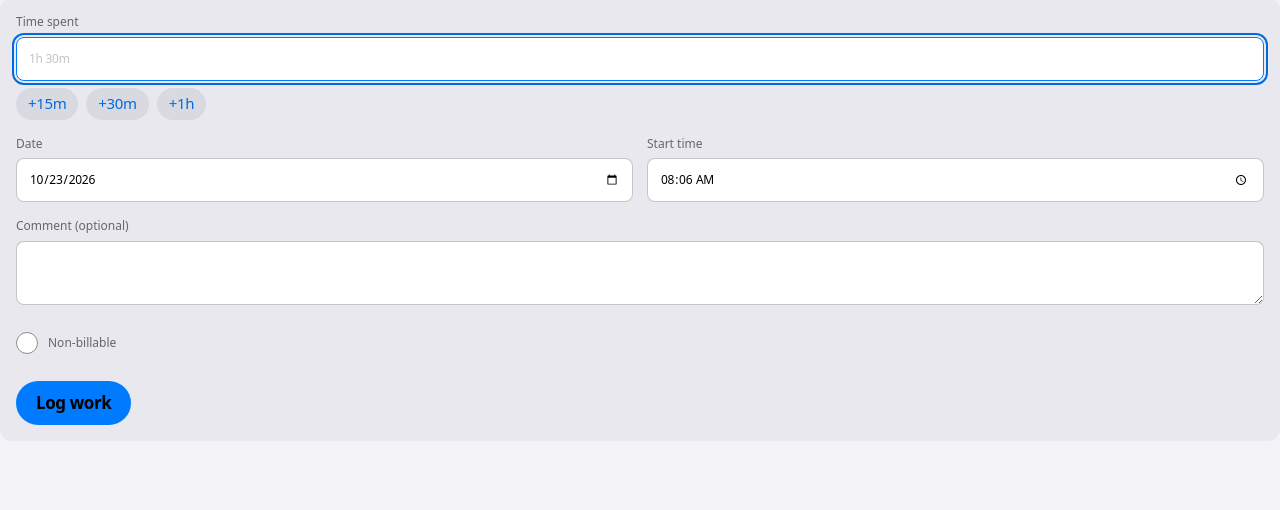
Test case: a duration that makes no sense › refuses to file it and says why
In the field with placeholder "1h 30m": (640, 58) x1=16 y1=36 x2=1264 y2=80, type "banana"
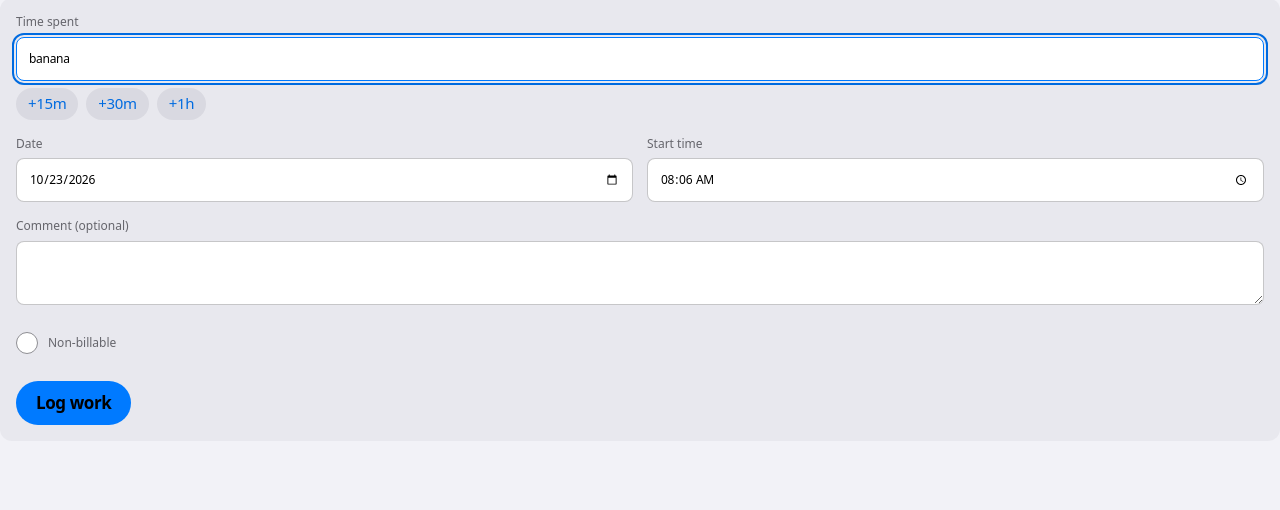
Click the button "Log work": (74, 403) x1=16 y1=381 x2=131 y2=425
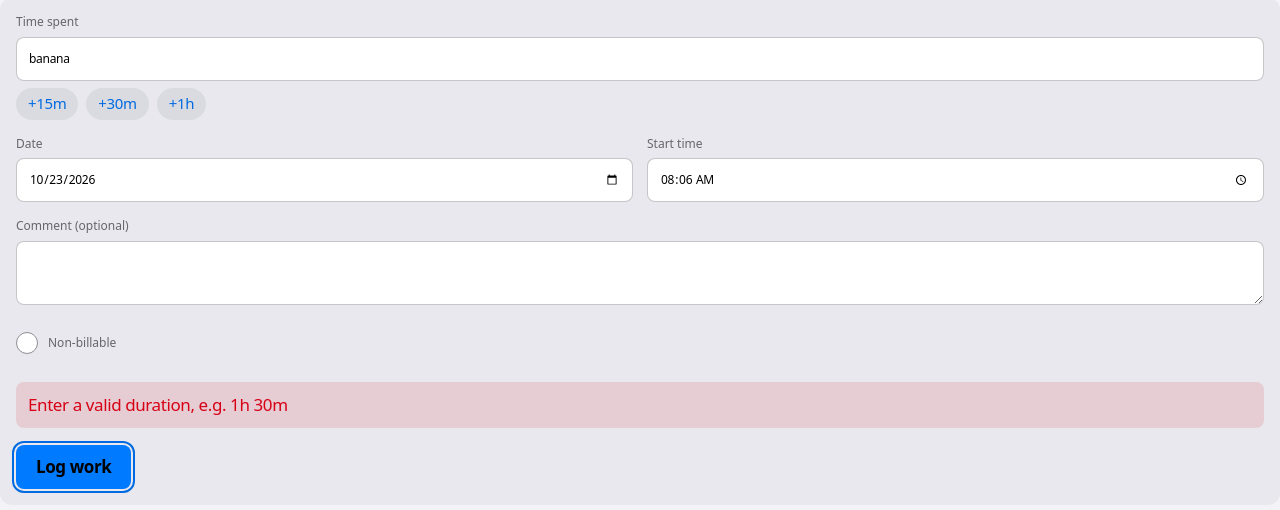
Now the text "Enter a valid duration, e.g. 1h 30m" is shown, box x1=16 y1=382 x2=1264 y2=428
